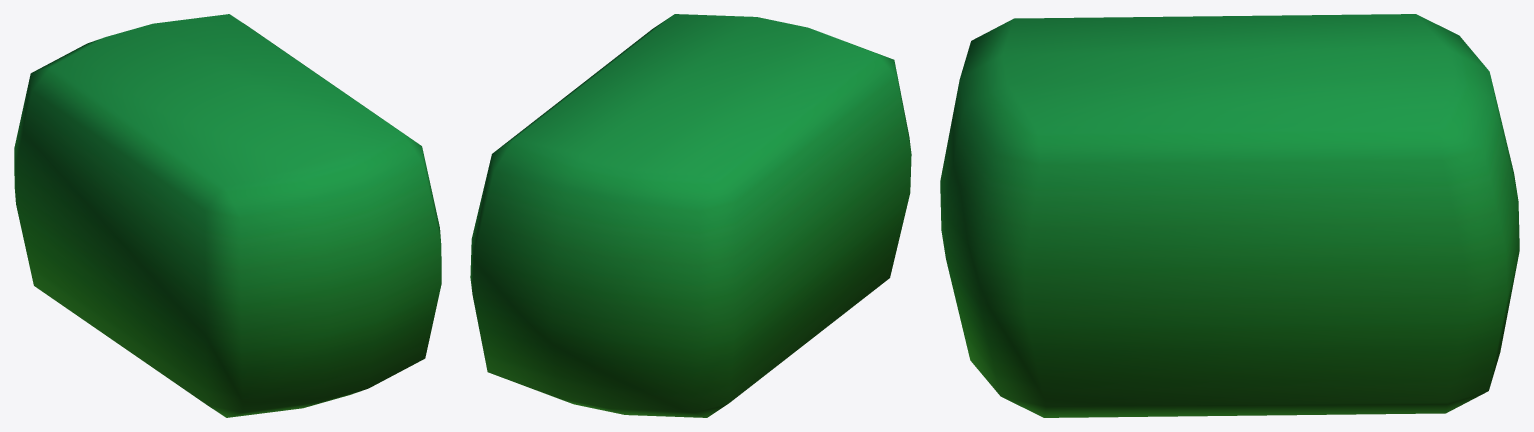
The model's file is Bush_1_3.obj.
3 renders of one model, left to right at view 1: azimuth 30°, elevation 25°; view 2: azimuth 150°, elevation 25°; view 3: azimuth 270°, elevation 25°, orthographic. The views are drawn at different scales.
Visible parts, largest first — view 1: Bush_1_3; view 2: Bush_1_3; view 3: Bush_1_3.
Part boxes in pixels (x1,y1,x2,y2): Bush_1_3: (14, 14, 441, 417); Bush_1_3: (470, 14, 911, 417); Bush_1_3: (940, 14, 1519, 417).
Bounding box in the file's own units: 0.799 × 0.728 × 1.29.
